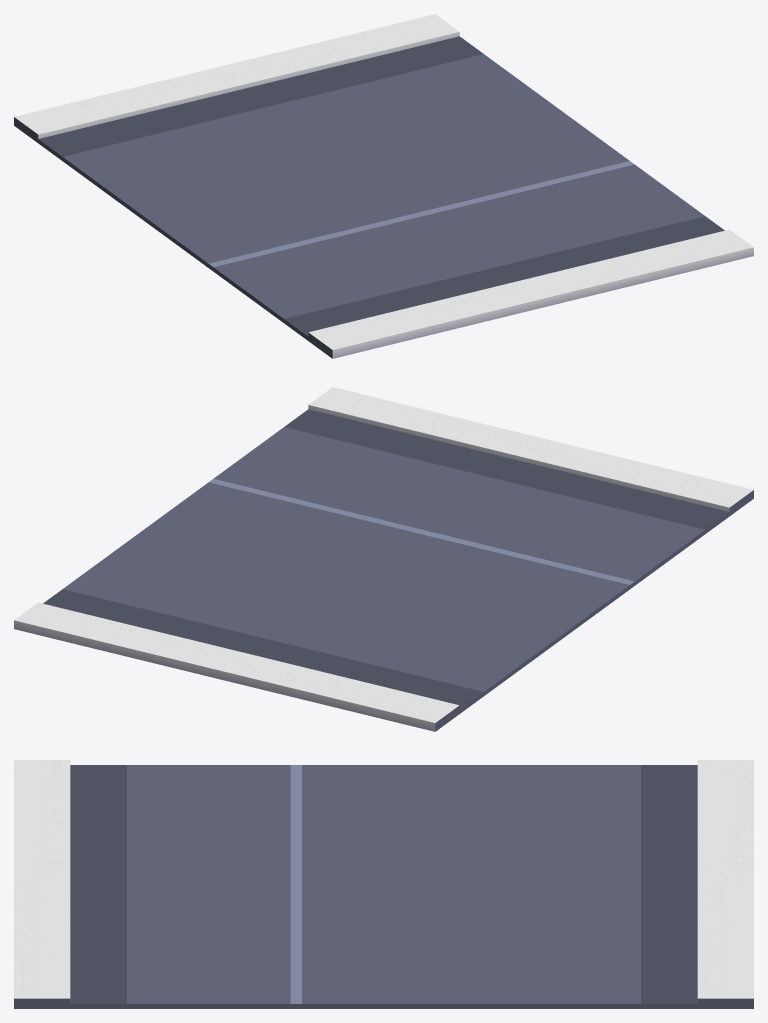
The model's file is road-side.glb.
3 views of the same model, one above another, from view 1: azimuth 30°, elevation 25°; view 2: azimuth 150°, elevation 25°; view 3: azimuth 270°, elevation 25° (orthographic). The views are drawn at different scales.
Parts seen in each view (by area): view 1: road-side; view 2: road-side; view 3: road-side.
Part boxes in pixels (x1,y1,x2,y2): road-side: [14, 14, 753, 358]; road-side: [14, 387, 753, 731]; road-side: [14, 760, 753, 1008].
Bounding box in the file's own units: 1 × 0.02 × 1.31.
Materials: 1 (1 with a texture image).
